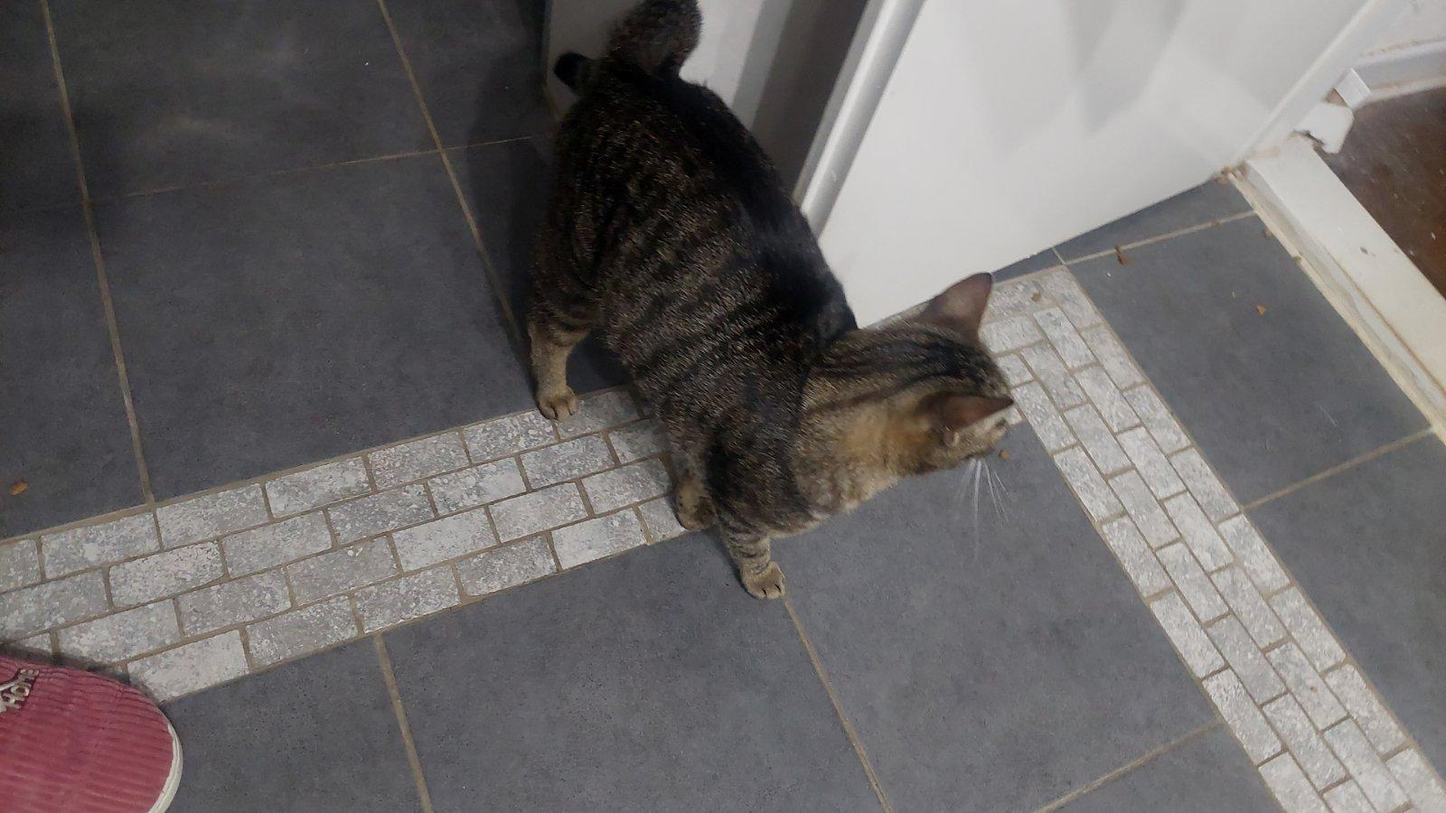macka: (522, 0, 1019, 606)
